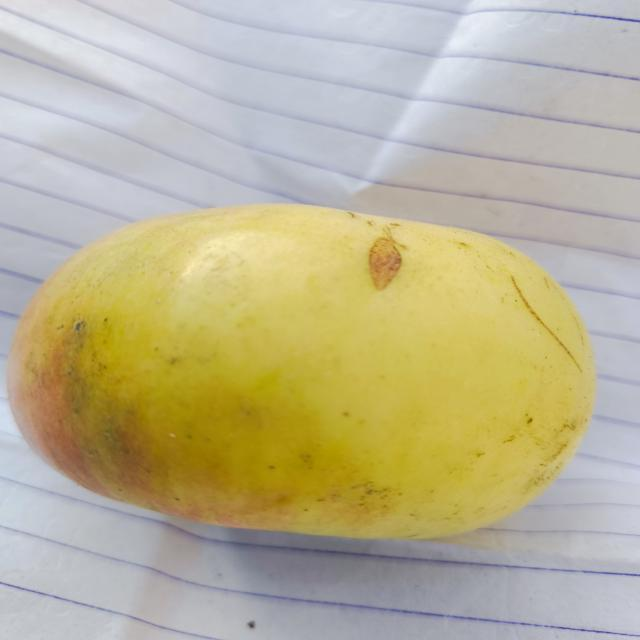Fresh Apple: (9, 194, 603, 546)
